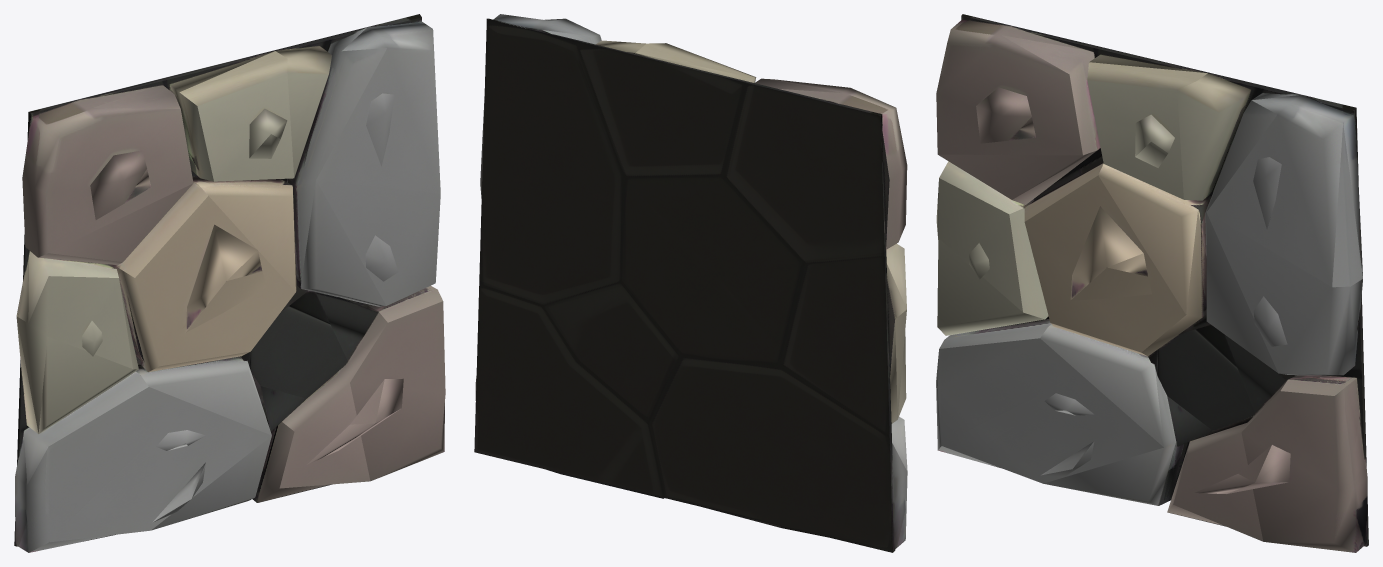
The model's file is road_tile_b.glb.
The picture shows the model from 3 angles, left to right: view 1: azimuth 30°, elevation 25°; view 2: azimuth 150°, elevation 25°; view 3: azimuth 330°, elevation 25°; orthographic projection.
Parts seen in each view (by area): view 1: mesh_node; view 2: mesh_node; view 3: mesh_node.
Part boxes in pixels (<box>): mesh_node: <box>14,14,445,552</box>; mesh_node: <box>474,14,907,552</box>; mesh_node: <box>936,14,1368,552</box>.
Size of the model in its own units: 1 by 1 by 0.1226.
Materials: 1 (1 with a texture image).
